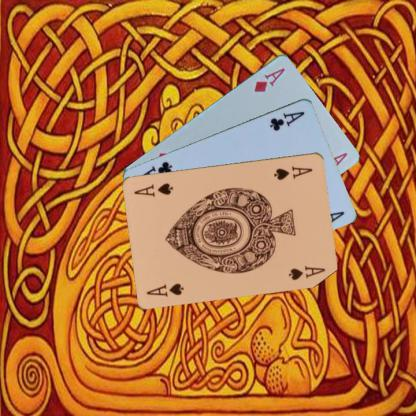Ac: (267, 108, 306, 132)
Ad: (252, 64, 286, 93)
As: (272, 163, 314, 181), (144, 280, 185, 298)
